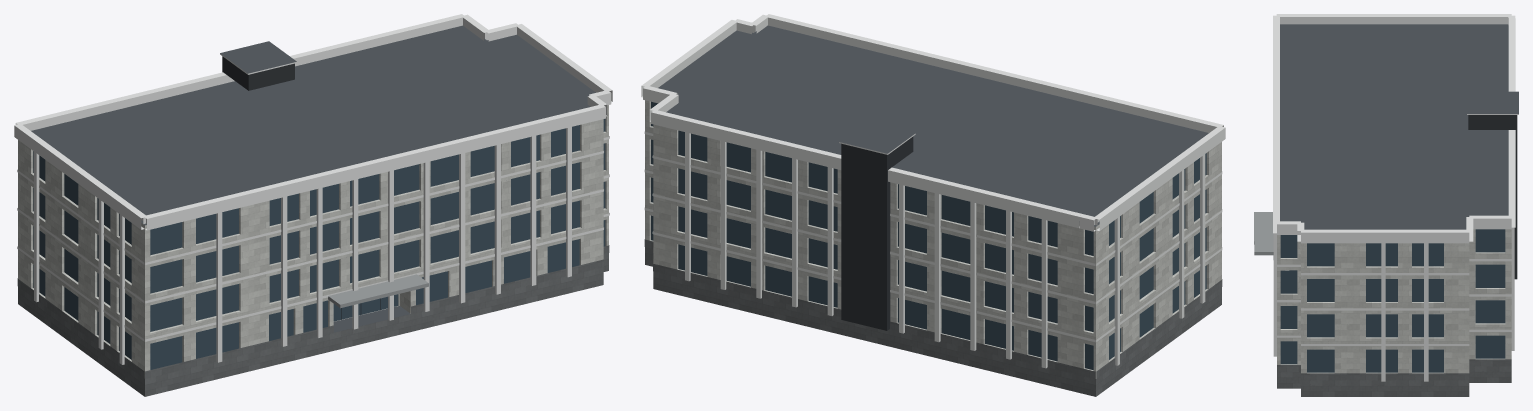
3 views of the same model, side by side, from view 1: azimuth 30°, elevation 25°; view 2: azimuth 150°, elevation 25°; view 3: azimuth 270°, elevation 25° (orthographic). The views are drawn at different scales.
Visible parts, largest first — view 1: analysisCenter__roof, analysisCenter__wall, analysisCenter__trim, analysisCenter__glass, analysisCenter__base, analysisCenter__canopy, analysisCenter__wall2; view 2: analysisCenter__roof, analysisCenter__wall, analysisCenter__trim, analysisCenter__glass, analysisCenter__base, analysisCenter__wall2; view 3: analysisCenter__roof, analysisCenter__wall, analysisCenter__trim, analysisCenter__glass, analysisCenter__base, analysisCenter__wall2, analysisCenter__canopy.
Boxes of the visible parts, left/top/right/bottom form: analysisCenter__roof: left=31, top=25, right=595, bottom=332; analysisCenter__wall: left=18, top=105, right=608, bottom=378; analysisCenter__trim: left=14, top=14, right=612, bottom=364; analysisCenter__glass: left=33, top=119, right=605, bottom=369; analysisCenter__base: left=17, top=245, right=609, bottom=396; analysisCenter__canopy: left=328, top=274, right=428, bottom=308; analysisCenter__wall2: left=222, top=56, right=294, bottom=90; analysisCenter__roof: left=658, top=25, right=1208, bottom=226; analysisCenter__wall: left=645, top=100, right=1221, bottom=378; analysisCenter__trim: left=641, top=14, right=1225, bottom=368; analysisCenter__glass: left=651, top=101, right=1206, bottom=370; analysisCenter__base: left=644, top=239, right=1222, bottom=396; analysisCenter__wall2: left=841, top=136, right=913, bottom=330; analysisCenter__roof: left=1280, top=24, right=1518, bottom=229; analysisCenter__wall: left=1277, top=229, right=1511, bottom=373; analysisCenter__trim: left=1273, top=14, right=1518, bottom=381; analysisCenter__glass: left=1280, top=229, right=1505, bottom=372; analysisCenter__base: left=1277, top=359, right=1511, bottom=396; analysisCenter__wall2: left=1468, top=115, right=1517, bottom=279; analysisCenter__canopy: left=1254, top=212, right=1273, bottom=255.
Bounding box in the file's own units: 50.28 × 19.6 × 25.73.
Materials: 9 (2 with a texture image).
